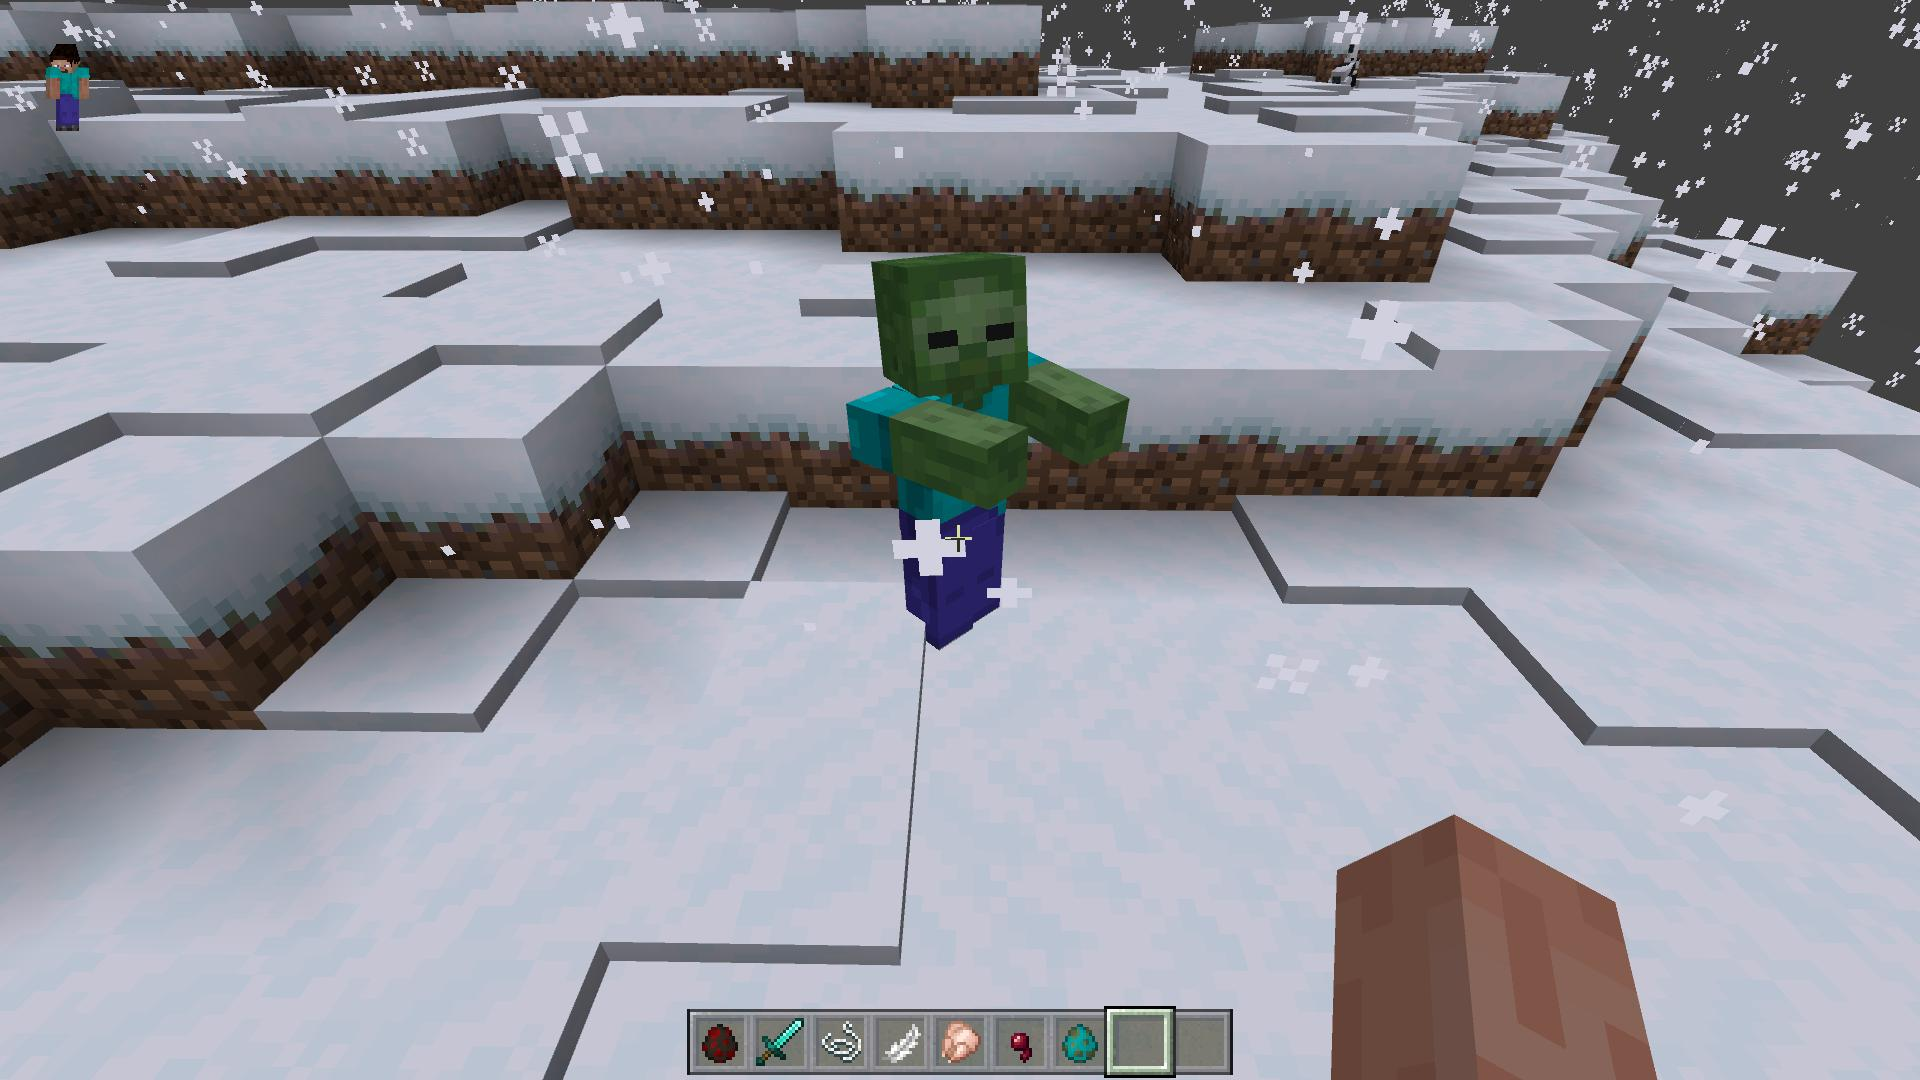zombie: (848, 253, 1135, 646)
